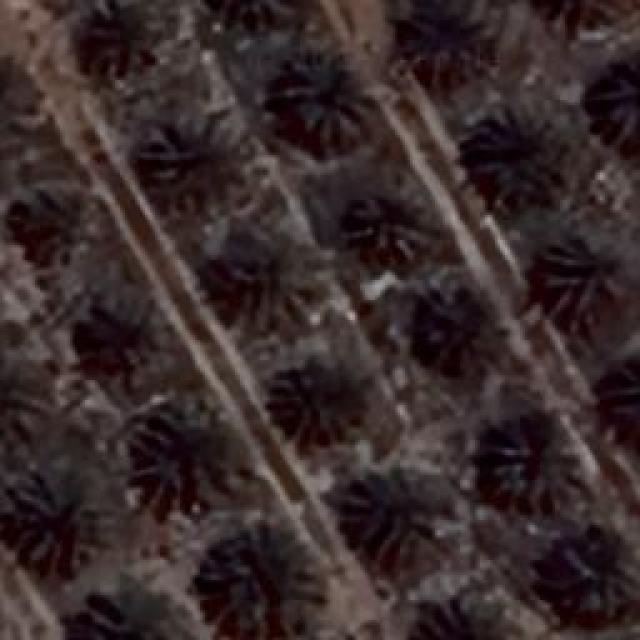PalmTree: (206, 535, 309, 623), (216, 231, 312, 321), (282, 50, 370, 148), (490, 422, 588, 510), (550, 528, 640, 616), (144, 412, 236, 498), (148, 121, 242, 204), (342, 472, 432, 556), (476, 120, 566, 202), (18, 482, 100, 570), (406, 0, 491, 82), (347, 185, 435, 260), (280, 364, 365, 438), (0, 352, 61, 452), (540, 240, 625, 310), (418, 296, 500, 366), (86, 302, 159, 378), (406, 593, 514, 640), (62, 590, 162, 640), (14, 182, 88, 246), (198, 0, 316, 40), (522, 0, 640, 40), (86, 6, 154, 69), (595, 55, 640, 150), (612, 350, 640, 445)
